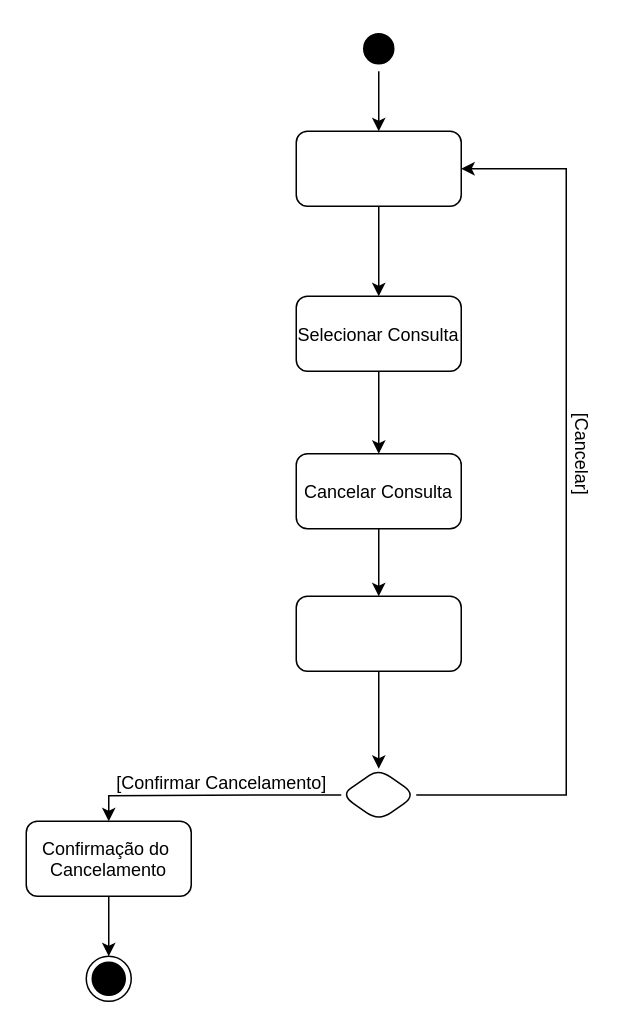
Image size: 630x1028. Some labels were removed from this diagram. The shapes that lost their labels are listed below. From the top down, each one's centre as x and y in pixels, then its label:
point (378, 168): Verificar Agenda
point (378, 633): Confirmar Cancelamento da Consulta
